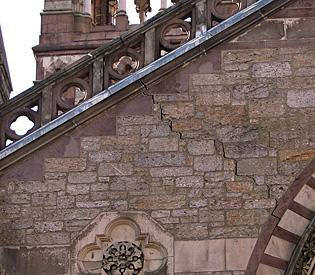crack: (133, 74, 163, 113), (246, 170, 277, 205), (163, 118, 195, 150), (215, 138, 236, 175)
